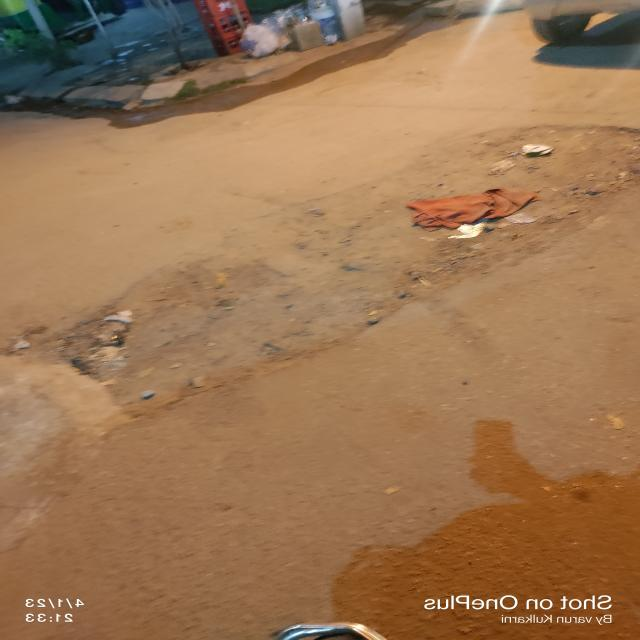potholes: (17, 123, 640, 413)
